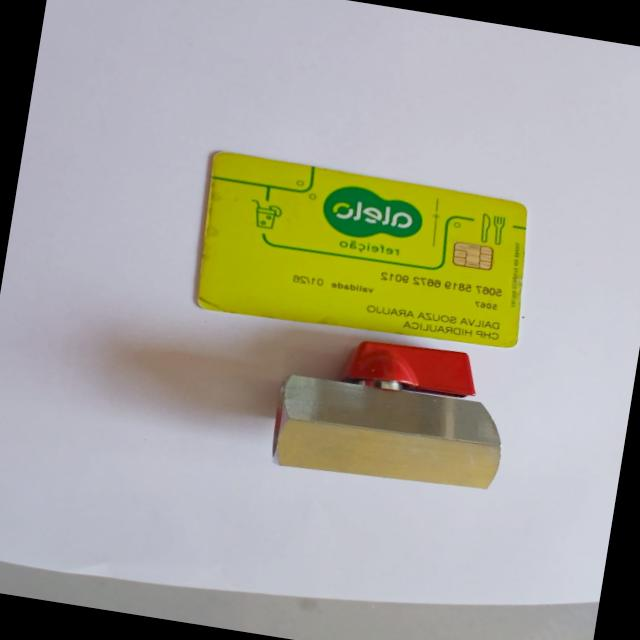cartao: (190, 152, 537, 358)
rosca_interna: (270, 326, 514, 503)
